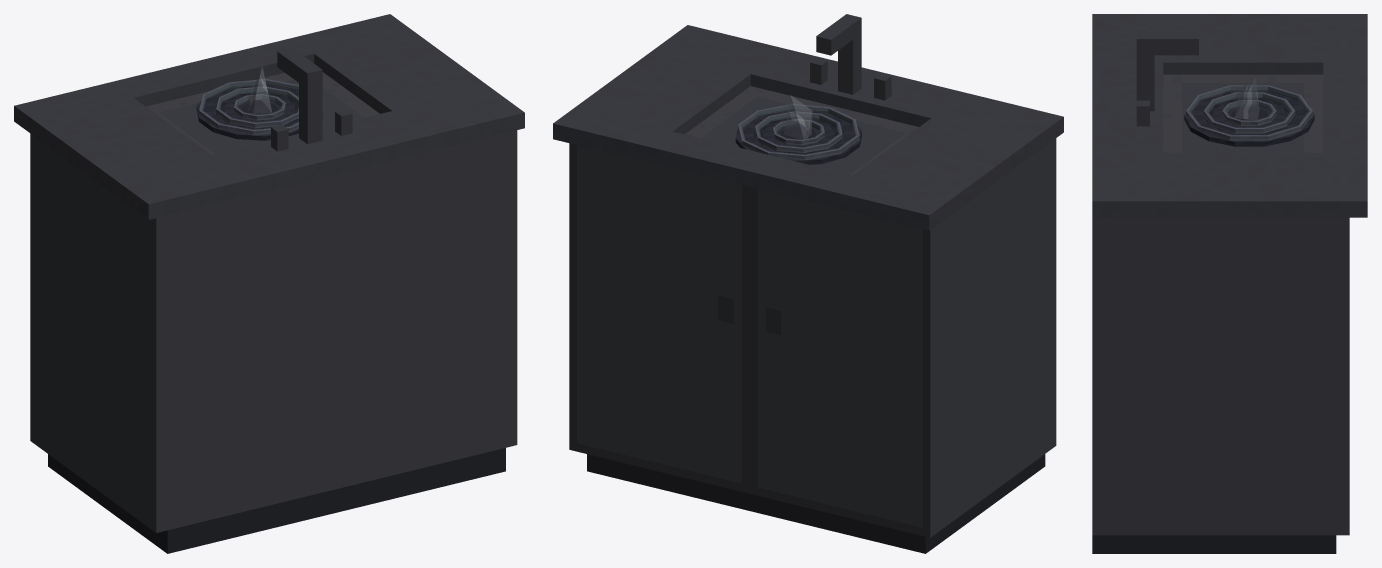
Rendered from f_vitrified_sink.glb.
The picture shows the model from 3 angles, left to right: view 1: azimuth 30°, elevation 25°; view 2: azimuth 150°, elevation 25°; view 3: azimuth 270°, elevation 25°; orthographic projection. The views are drawn at different scales.
Visible parts, largest first — view 1: block_cabinet, block_top-l, block_top-r, block_cabinet-plinth, block_top-b, block_top-f, block_basin, block_black-glass-pool, block_tap, block_spout, block_splash-point; view 2: block_cabinet, block_top-l, block_top-r, block_cabinet-plinth, block_top-b, block_top-f, block_basin, block_black-glass-pool, block_tap, block_spout, block_splash-point; view 3: block_cabinet, block_top-r, block_top-l, block_basin, block_top-b, block_cabinet-plinth, block_top-f, block_black-glass-pool, block_tap, block_spout, block_splash-point, block_handle0.07.
Part boxes in pixels (x1=…): block_cabinet: x1=30, y1=130, x2=517, y2=532; block_top-l: x1=14, y1=82, x2=246, y2=219; block_top-r: x1=293, y1=14, x2=524, y2=151; block_cabinet-plinth: x1=48, y1=448, x2=505, y2=553; block_top-b: x1=212, y1=111, x2=426, y2=195; block_top-f: x1=112, y1=38, x2=314, y2=106; block_basin: x1=146, y1=72, x2=379, y2=154; block_black-glass-pool: x1=196, y1=85, x2=322, y2=140; block_tap: x1=299, y1=63, x2=322, y2=144; block_spout: x1=277, y1=47, x2=322, y2=88; block_splash-point: x1=245, y1=66, x2=272, y2=113; block_cabinet: x1=569, y1=138, x2=1056, y2=537; block_top-l: x1=831, y1=93, x2=1063, y2=230; block_top-r: x1=553, y1=25, x2=784, y2=162; block_cabinet-plinth: x1=587, y1=454, x2=1045, y2=553; block_top-b: x1=750, y1=49, x2=965, y2=126; block_top-f: x1=651, y1=131, x2=852, y2=206; block_basin: x1=685, y1=86, x2=918, y2=175; block_black-glass-pool: x1=735, y1=109, x2=861, y2=164; block_tap: x1=838, y1=14, x2=861, y2=94; block_spout: x1=816, y1=14, x2=861, y2=55; block_splash-point: x1=784, y1=95, x2=812, y2=139; block_cabinet: x1=1092, y1=217, x2=1349, y2=535; block_top-r: x1=1092, y1=152, x2=1367, y2=217; block_top-l: x1=1092, y1=14, x2=1367, y2=74; block_basin: x1=1163, y1=74, x2=1323, y2=152; block_top-b: x1=1092, y1=62, x2=1163, y2=152; block_cabinet-plinth: x1=1092, y1=535, x2=1336, y2=553; block_top-f: x1=1323, y1=62, x2=1367, y2=152; block_black-glass-pool: x1=1184, y1=91, x2=1314, y2=146; block_tap: x1=1136, y1=31, x2=1154, y2=111; block_spout: x1=1136, y1=31, x2=1198, y2=55; block_splash-point: x1=1234, y1=77, x2=1259, y2=120; block_handle0.07: x1=1136, y1=100, x2=1149, y2=126.
Size of the model in its own units: 1 by 1.08 by 0.62.
Materials: 3 (3 with a texture image).
